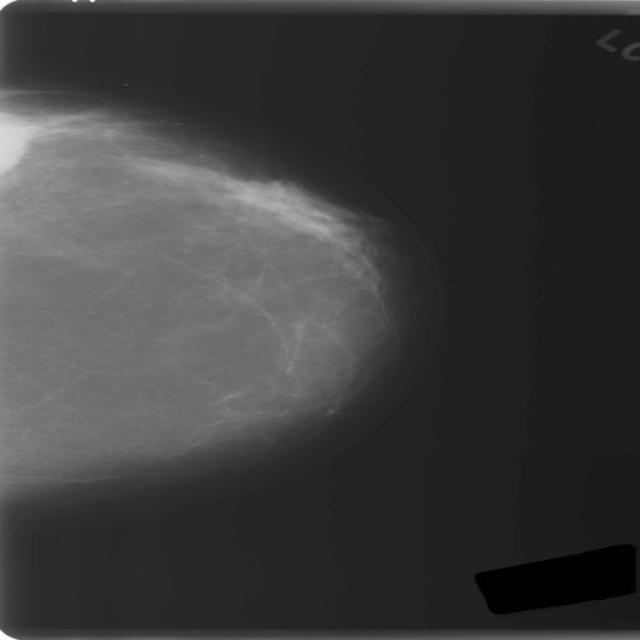tumour: (0, 111, 43, 174)
